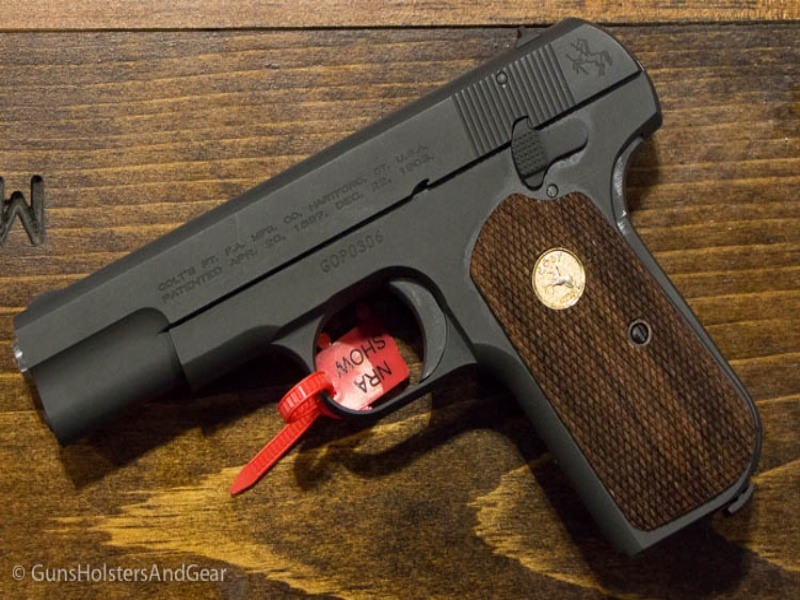gun: (7, 24, 765, 555)
